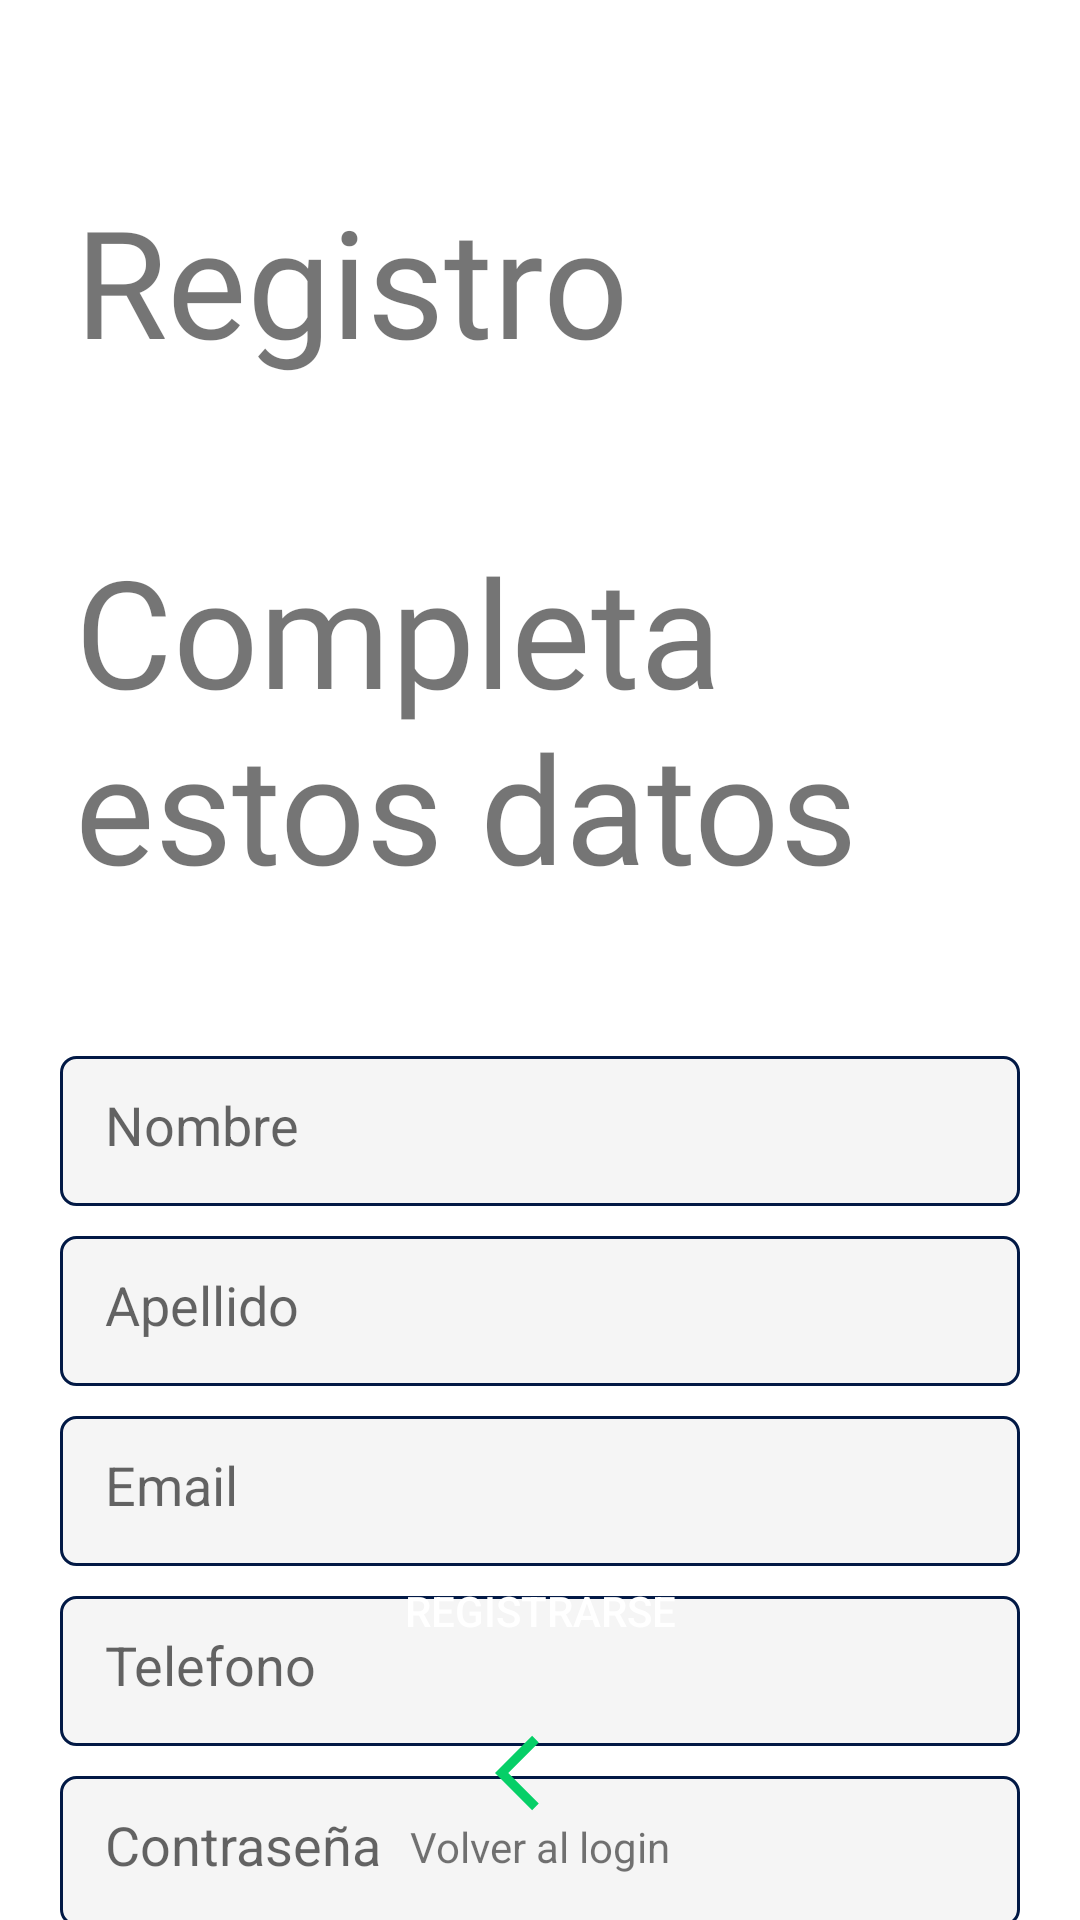

Point at icon controls on the screen. Image size 1080w x 1920h, points as (x,y).
arrow left: (540,1773)
